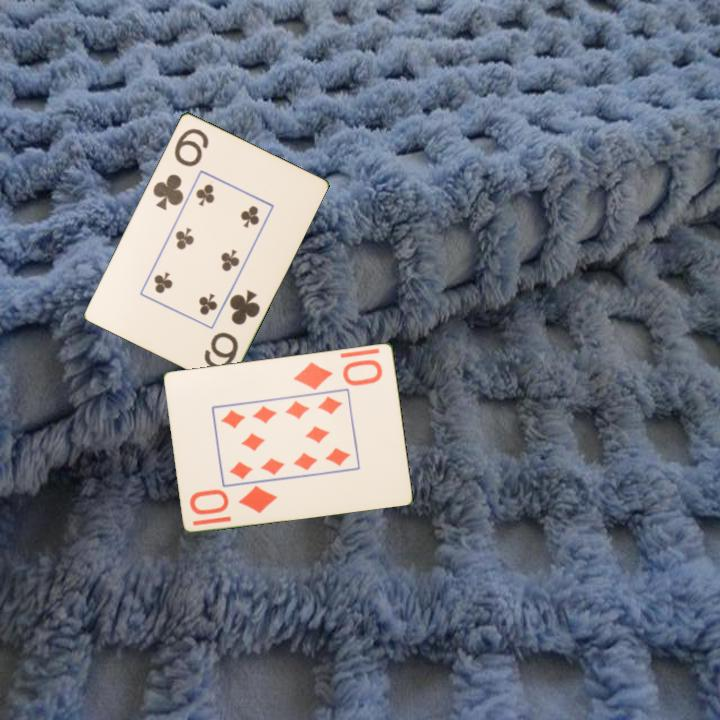10d: (290, 355, 386, 393), (186, 482, 280, 517)
6c: (149, 124, 212, 213), (200, 286, 263, 372)
